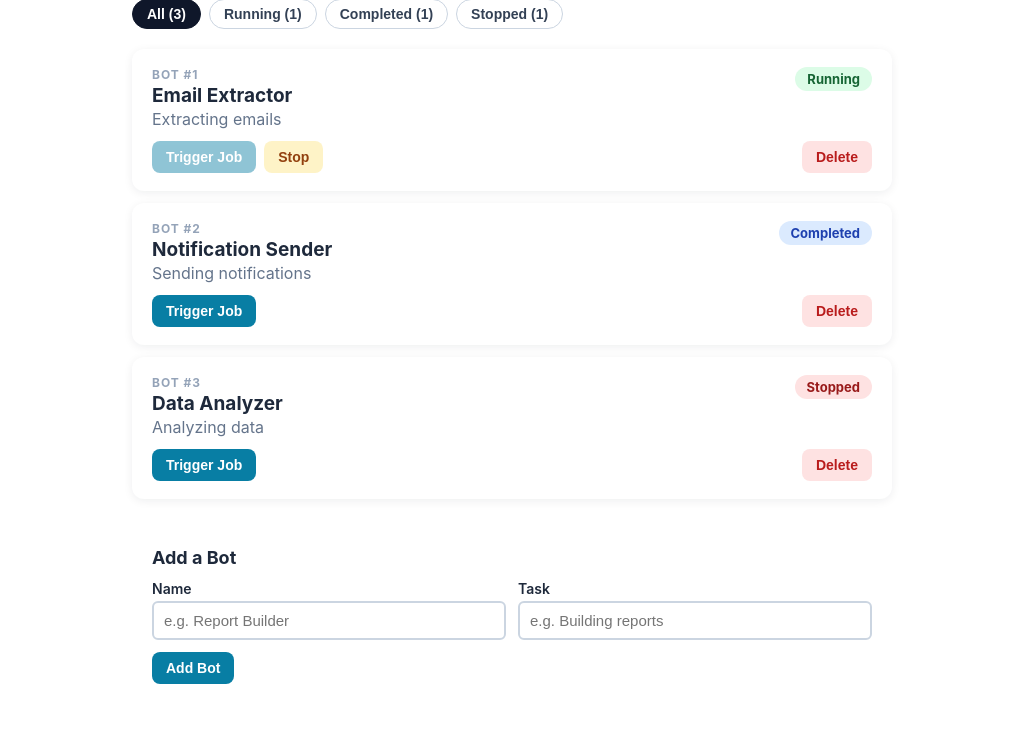
Test: adds and deletes bots
(page scrolled)
Click the button "Add Bot" at point(193, 668), box [152, 652, 234, 684]
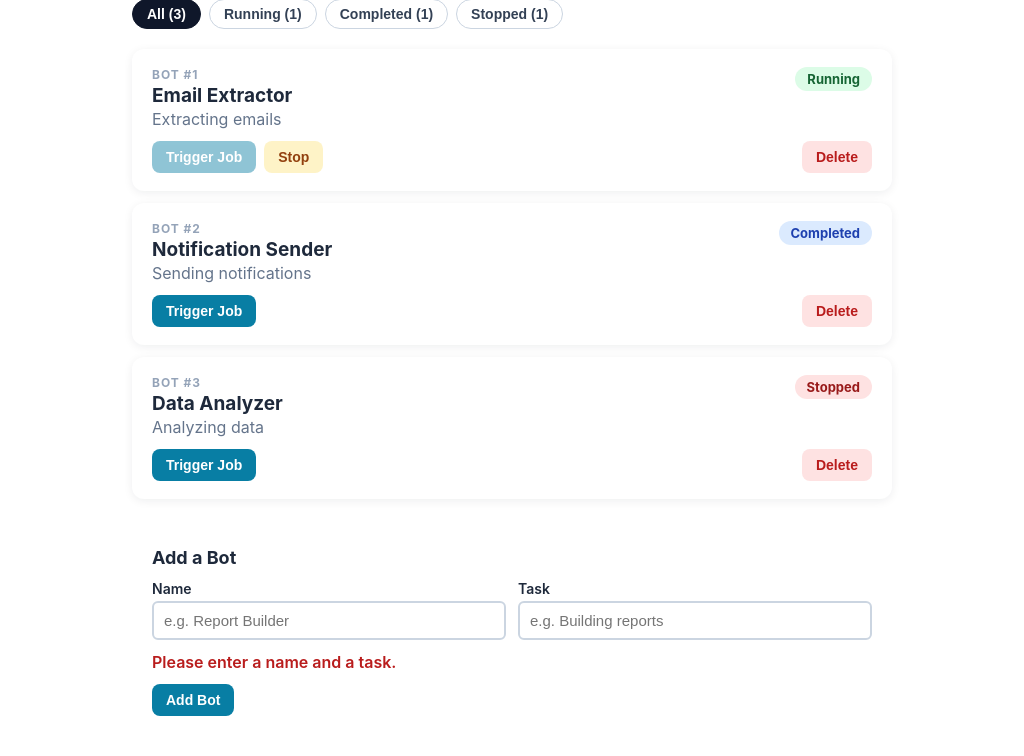
Expected: the message reads "Please enter a name and a task.", [152, 652, 396, 672]
Type "Report Builder" into the field labelled "Name" at point(329, 620), box [152, 601, 506, 640]
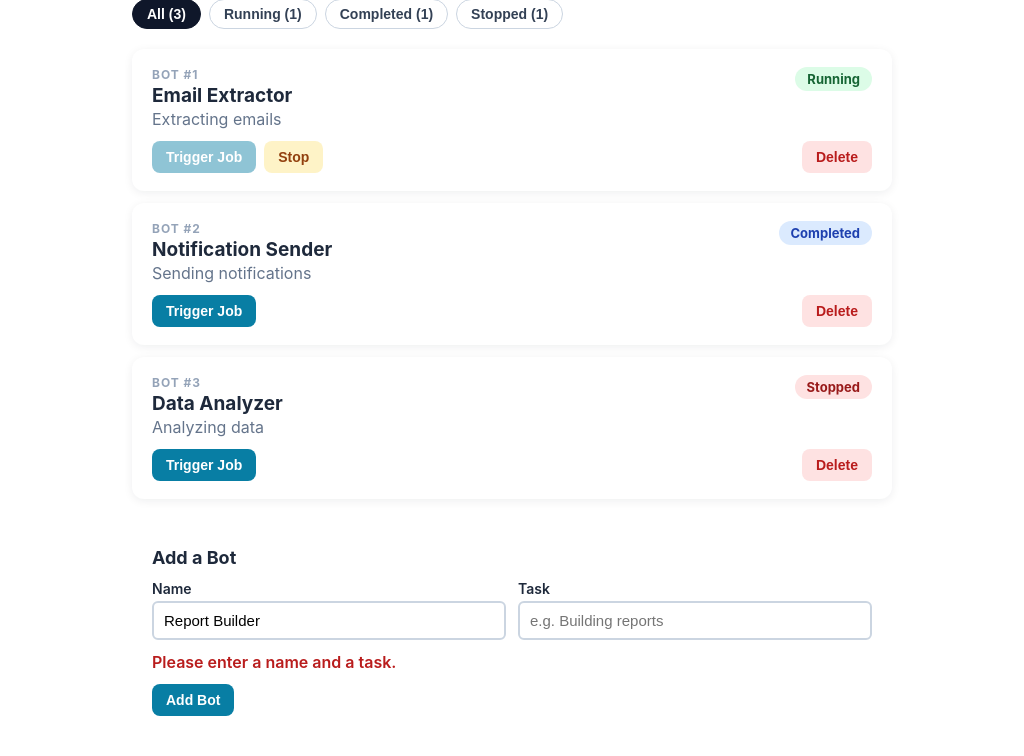
Type "Building reports" into the field labelled "Task" at point(695, 620), box [518, 601, 872, 640]
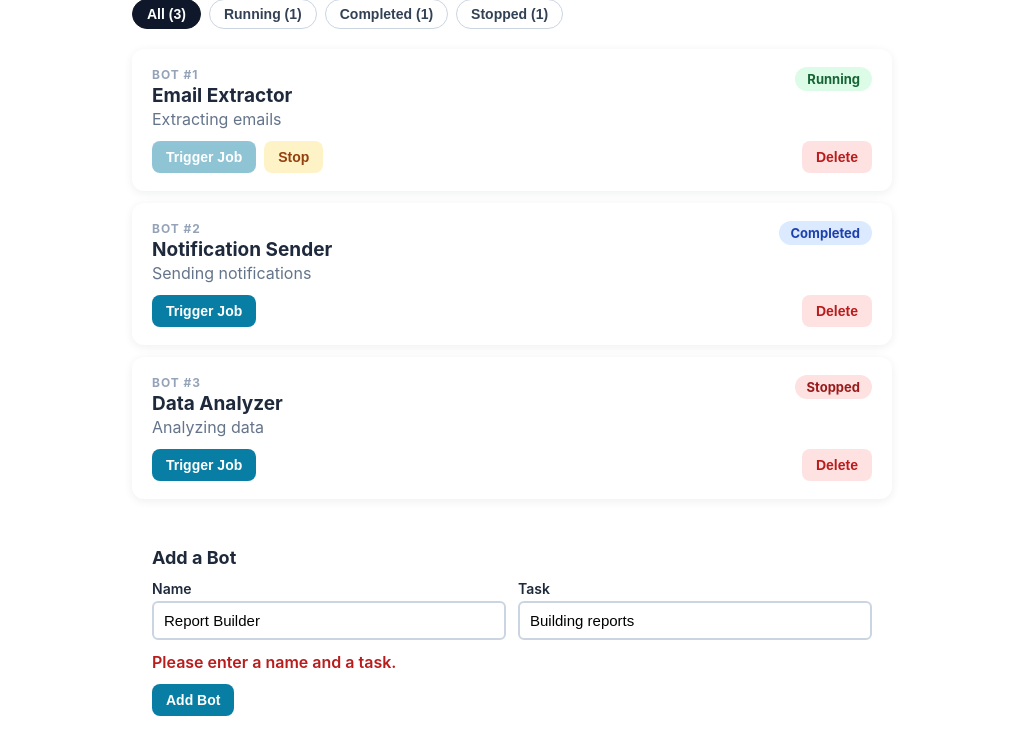
Click the button "Add Bot" at point(193, 700), box [152, 684, 234, 716]
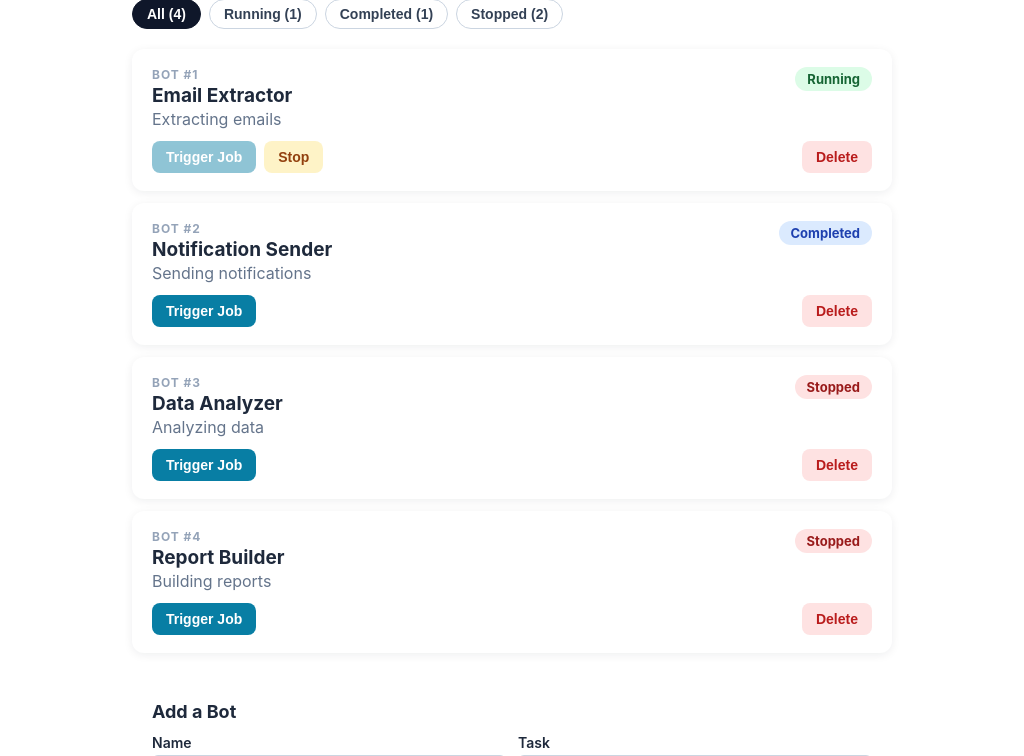
Expected: the list item "Report Builder" shows "Bot #4", [132, 511, 892, 653]
Click the button with aria-label "Delete Email Extractor" at point(837, 157), box [802, 141, 872, 173]
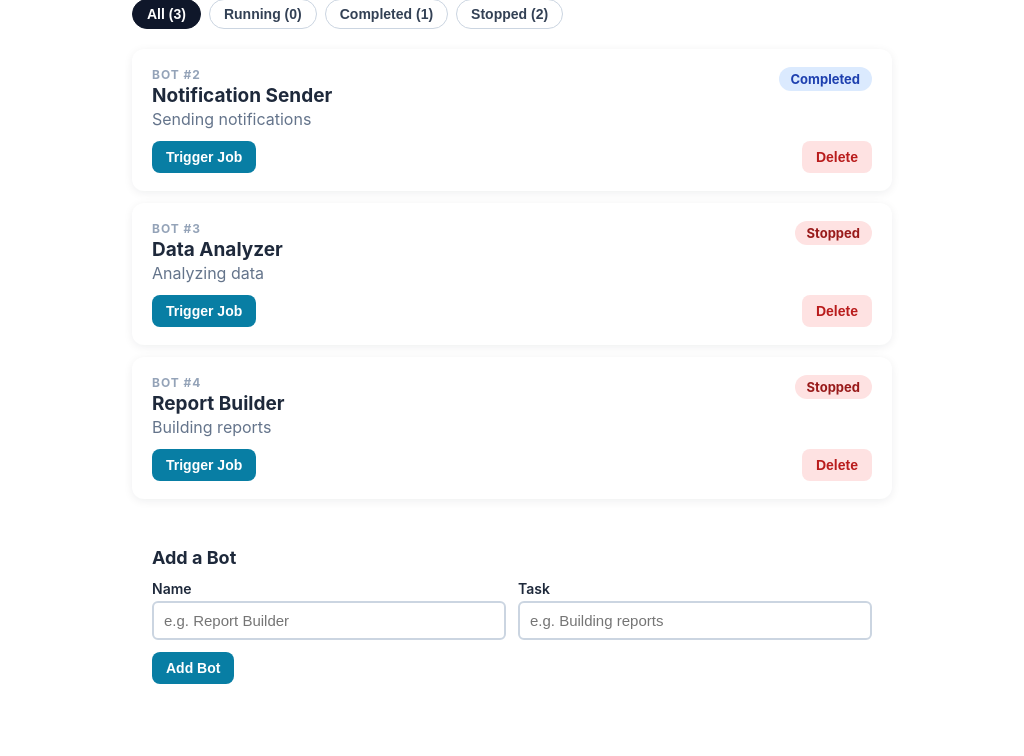
Expected: the heading "Email Extractor" is gone
Expected: the number of list items is 3, [132, 49, 892, 191]; [132, 203, 892, 345]; [132, 357, 892, 499]
